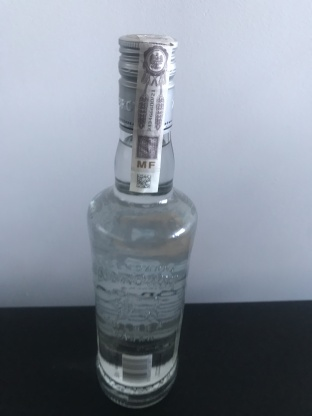nakretka: (115, 29, 180, 138)
